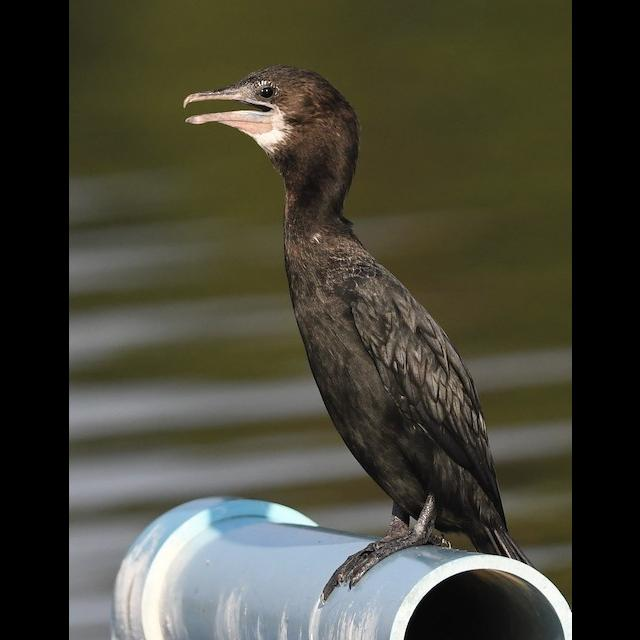cormorant: (181, 64, 545, 578)
